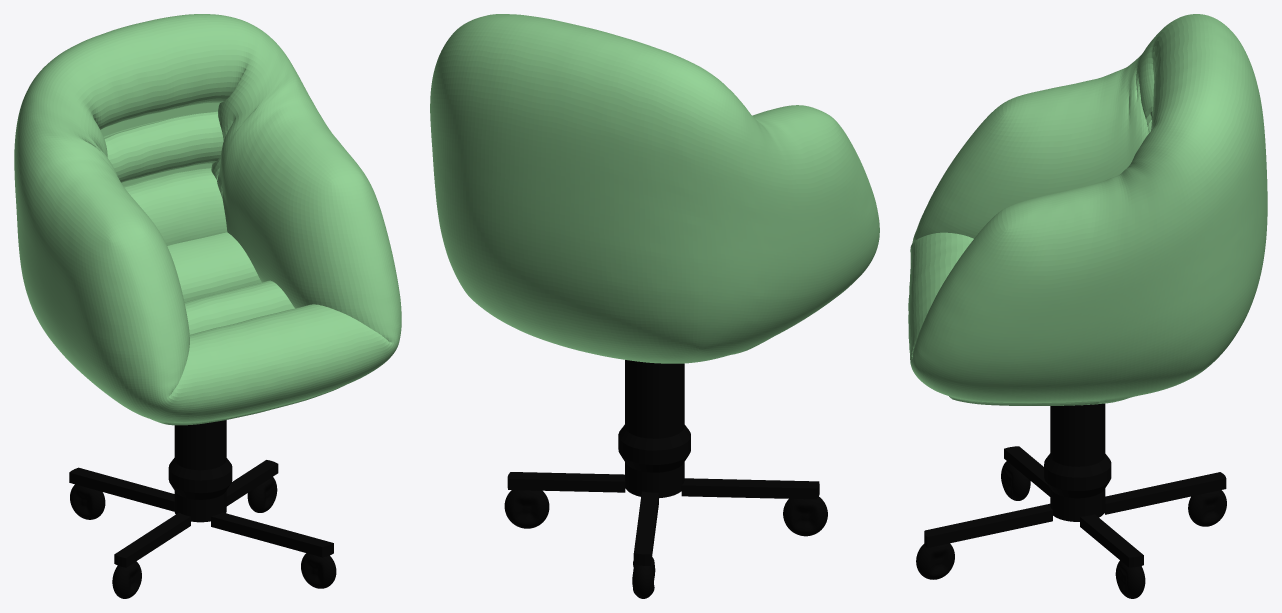
File: chair.fbx
3 renders of one model, left to right at view 1: azimuth 30°, elevation 25°; view 2: azimuth 150°, elevation 25°; view 3: azimuth 270°, elevation 25°, orthographic. The views are drawn at different scales.
Visible parts, largest first — view 1: chair; view 2: chair; view 3: chair.
Boxes of the visible parts, <box> form: chair: <box>14,14,401,598</box>; chair: <box>430,14,879,598</box>; chair: <box>908,14,1267,598</box>.
Bounding box in the file's own units: 266 × 406 × 260.
